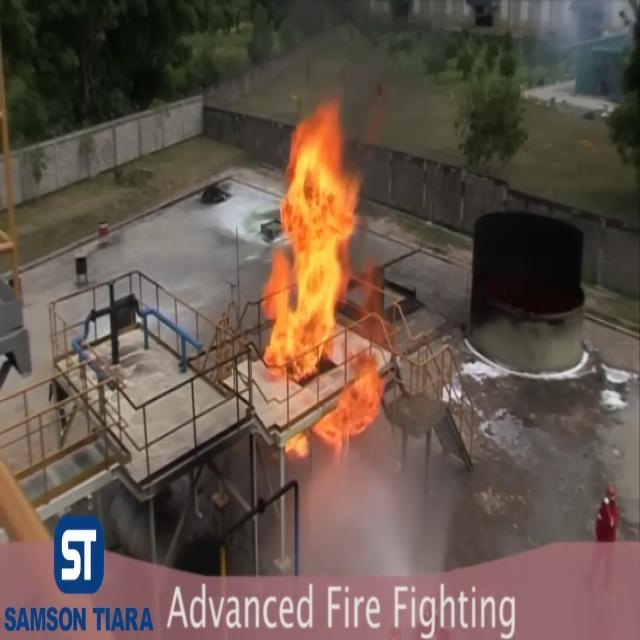Fire: (254, 77, 383, 396)
